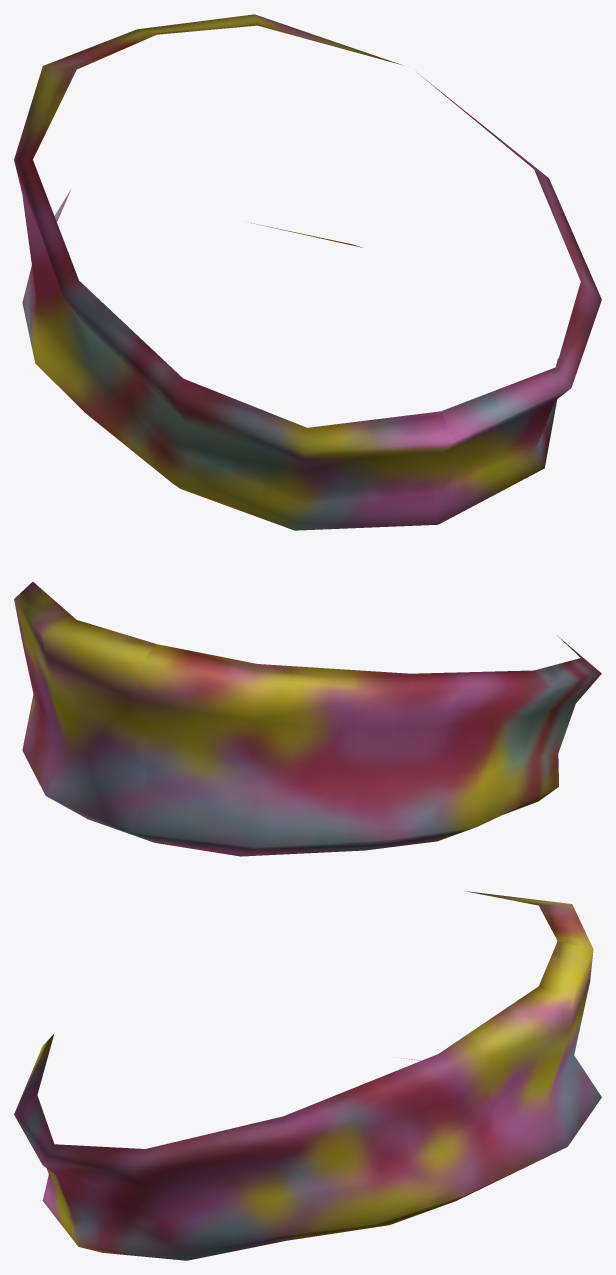
Rendered from starBandana.glb.
The picture shows the model from 3 angles, top to bottom: view 1: azimuth 30°, elevation 25°; view 2: azimuth 150°, elevation 25°; view 3: azimuth 270°, elevation 25°; orthographic projection. The views are drawn at different scales.
Parts seen in each view (by area): view 1: starBandana; view 2: starBandana; view 3: starBandana.
Part boxes in pixels (left/top/right/bottom): starBandana: left=14, top=14, right=601, bottom=530; starBandana: left=14, top=582, right=601, bottom=856; starBandana: left=14, top=891, right=601, bottom=1260.
Bounding box in the file's own units: 0.2517 × 0.1459 × 0.2885.
1 material, 1 textured.
